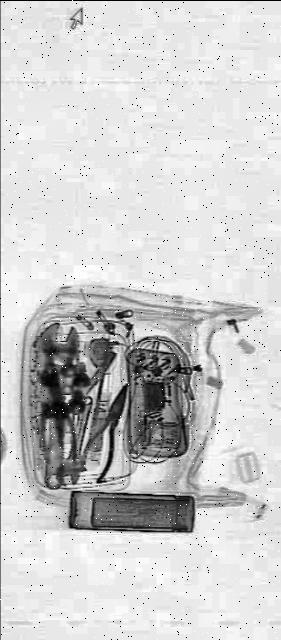Pliers: (82, 364, 138, 490)
Wrench: (32, 317, 80, 491)
